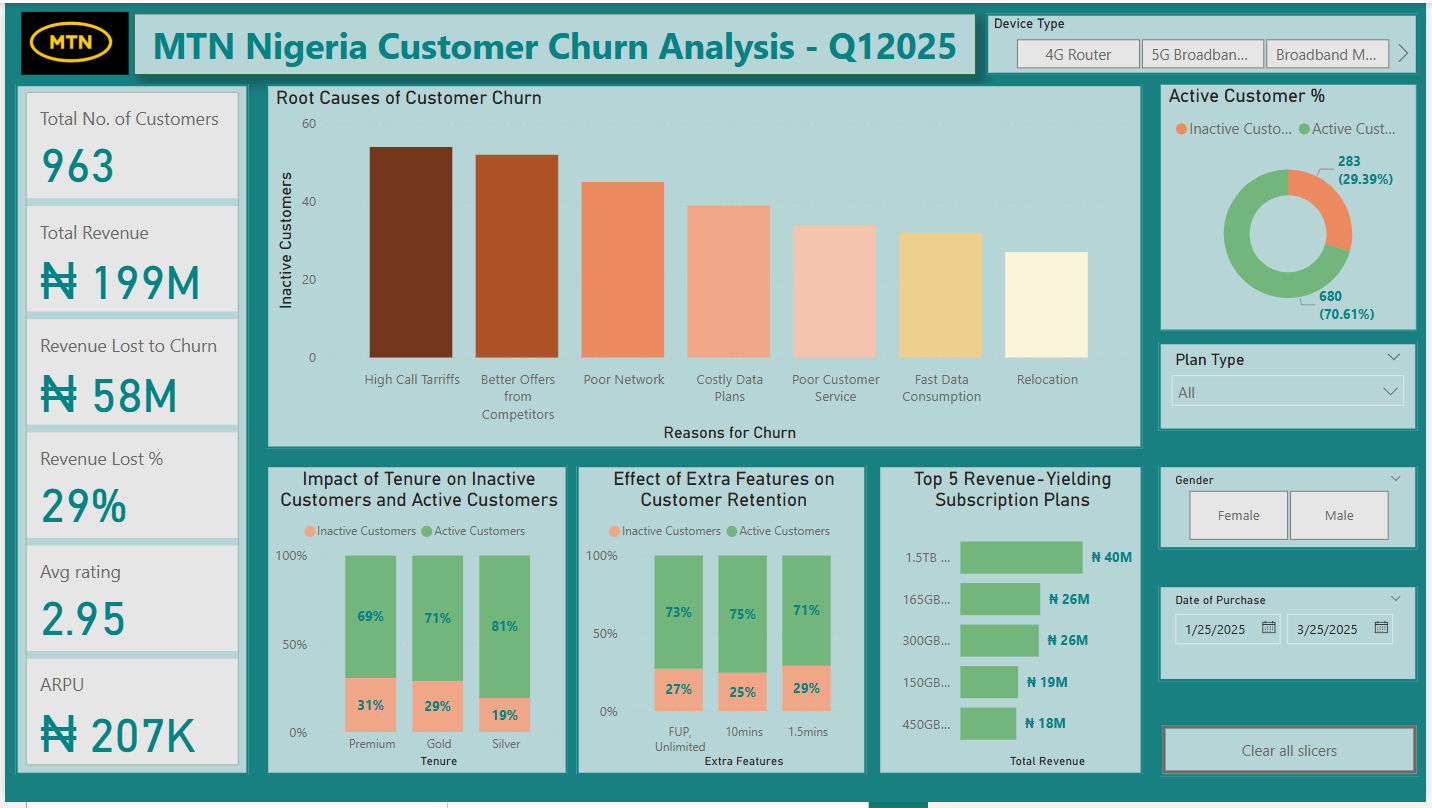

The dashboard page shown, as its layout file describes it:
{"tool":"powerbi","page":{"name":"MTN Nigeria Customer Churn Analysis - Q12025","canvas":[1280,720],"ordinal":0},"visuals":[{"type":"textbox","box":[116,9,759,55.4],"z":0},{"type":"columnChart","title":"Root Causes of Customer Churn","fields":{"Category":["mtn_customer_churn.Reasons for Churn"],"Y":["Measure Table.Inactive Customers"]},"box":[234.5,73.5,789.9,328.6],"z":1000},{"type":"hundredPercentStackedColumnChart","title":"Impact of Tenure on Inactive Customers and Active Customers","fields":{"Category":["mtn_customer_churn.Tenure"],"Y":["Measure Table.Inactive Customers","Measure Table.Active Customers"]},"box":[234.5,416.2,271.9,279.6],"z":2000},{"type":"hundredPercentStackedColumnChart","title":"Effect of Extra Features on Customer Retention","fields":{"Category":["mtn_customer_churn.Extra Features"],"Y":["Measure Table.Inactive Customers","Measure Table.Active Customers"]},"box":[515.4,416.2,261.6,279.6],"z":3000},{"type":"cardVisual","fields":{"Data":["Measure Table.Total No. of Customers","Measure Table.Total Revenue","Measure Table.Revenue Lost to Churn","Measure Table.Revenue Lost %","Measure Table.Avg rating","Measure Table.ARPU"]},"box":[9,73.5,210,622.4],"z":4000},{"type":"slicer","title":"Device Type","fields":{"Values":["mtn_customer_churn.MTN Device"]},"box":[884,9,389.2,55.4],"z":5000},{"type":"slicer","fields":{"Values":["mtn_customer_churn.Date of Purchase"]},"box":[1039.9,524.5,233.2,86.3],"z":6000},{"type":"actionButton","box":[1041.2,648.2,233.2,47.7],"z":7000},{"type":"donutChart","title":"Active Customer %","fields":{"Y":["Measure Table.Inactive Customers","Measure Table.Active Customers"]},"box":[1040.8,73,231.1,221.7],"z":8000},{"type":"slicer","fields":{"Values":["mtn_customer_churn.Plan Type"]},"box":[1039.9,305.4,233.2,79.9],"z":9000},{"type":"clusteredBarChart","title":"Top 5 Revenue-Yielding Subscription Plans\n\n","fields":{"Category":["mtn_customer_churn.Subscription Plan"],"Y":["Measure Table.Total Revenue"]},"box":[786,416.2,238.4,279.6],"z":10000},{"type":"slicer","fields":{"Values":["mtn_customer_churn.Gender"]},"box":[1039.9,416.2,233.2,76],"z":11000},{"type":"image","box":[9.5,0,106.8,73],"z":12000}]}

Visuals, with their boxes in screenshot pixels (x1, y1, x2, y2), scaled from the page's 1280x720 canvas onto the 1432x808 screenshot:
textbox: BBox(130, 10, 979, 72)
"Root Causes of Customer Churn" columnChart: BBox(262, 82, 1146, 451)
"Impact of Tenure on Inactive Customers and Active Customers" hundredPercentStackedColumnChart: BBox(262, 467, 567, 781)
"Effect of Extra Features on Customer Retention" hundredPercentStackedColumnChart: BBox(577, 467, 869, 781)
cardVisual - Measure Table.Total No. of Customers x Measure Table.Total Revenue: BBox(10, 82, 245, 781)
"Device Type" slicer: BBox(989, 10, 1424, 72)
slicer - mtn_customer_churn.Date of Purchase: BBox(1163, 589, 1424, 685)
actionButton: BBox(1165, 727, 1426, 781)
"Active Customer %" donutChart: BBox(1164, 82, 1423, 331)
slicer - mtn_customer_churn.Plan Type: BBox(1163, 343, 1424, 432)
"Top 5 Revenue-Yielding Subscription Plans

" clusteredBarChart: BBox(879, 467, 1146, 781)
slicer - mtn_customer_churn.Gender: BBox(1163, 467, 1424, 552)
image: BBox(11, 0, 130, 82)
